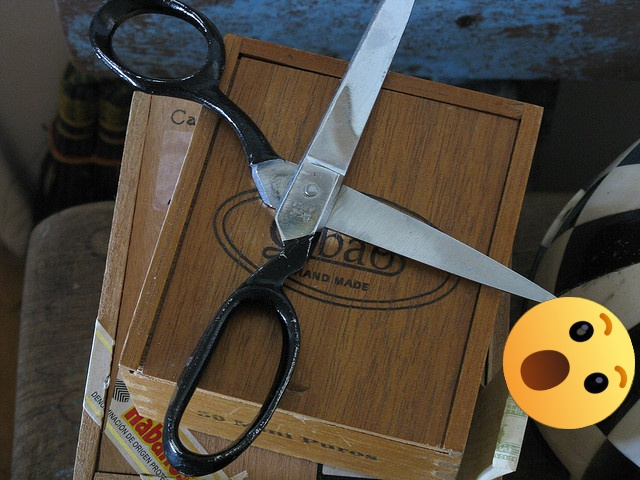wow: (503, 297, 635, 429)
